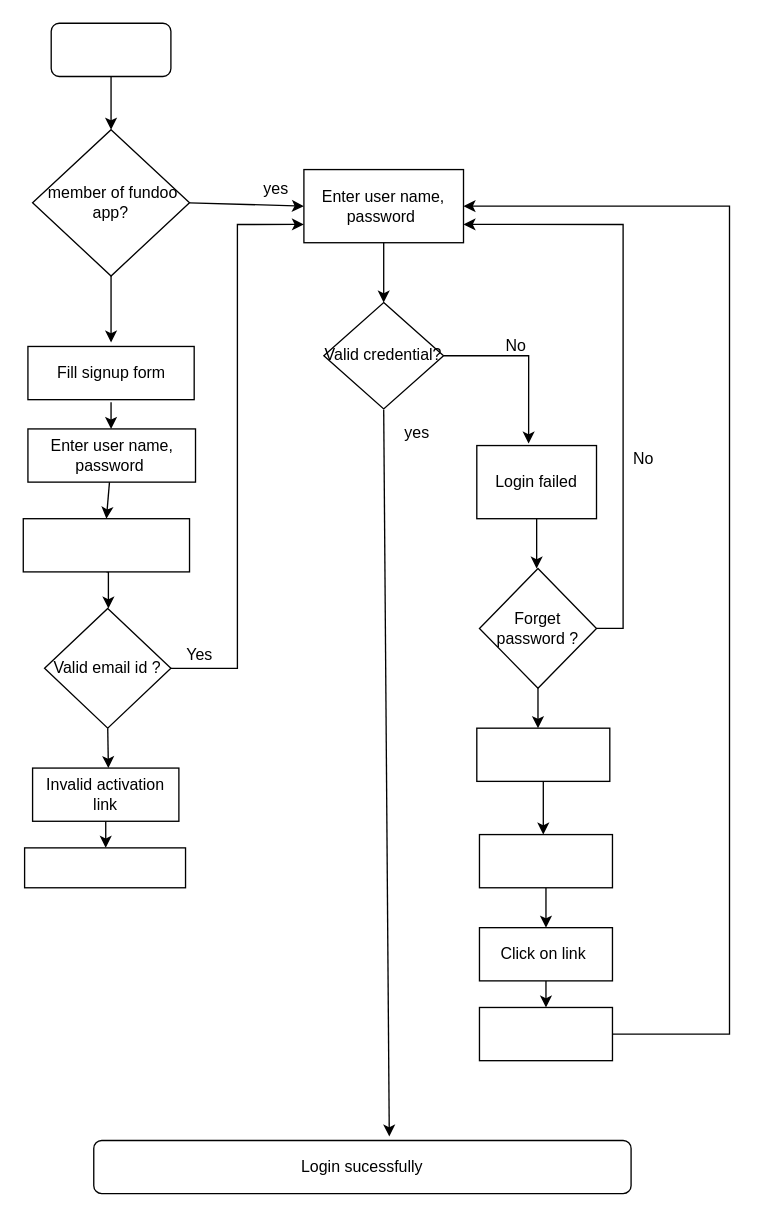
This 763x1217 diagram has some shape labels left out. Each missing label, with the box of its shape:
Enter email address: (475, 727, 610, 781)
Link send on email for verification: (22, 517, 190, 572)
Link sent to email: (478, 833, 612, 888)
Set a new password: (478, 1006, 612, 1061)
Sign up failed: (23, 847, 186, 888)
Start: (50, 22, 171, 76)
